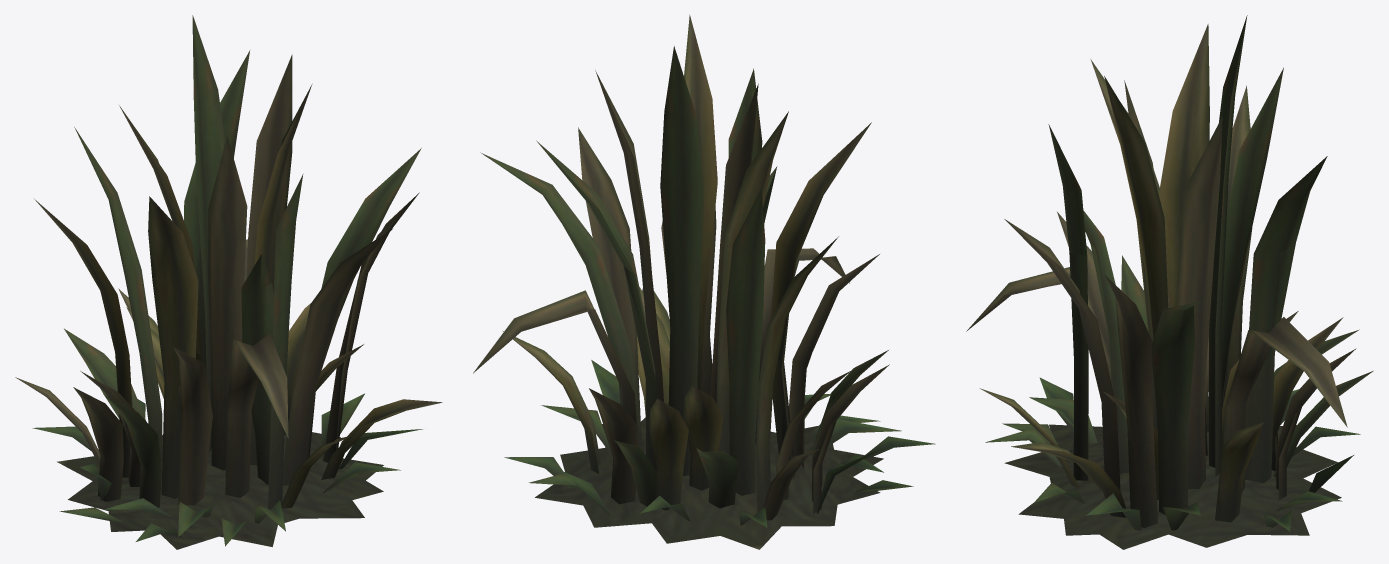
Rendered from moba_grass_02.FBX.
3 views of the same model, side by side, from view 1: azimuth 30°, elevation 25°; view 2: azimuth 150°, elevation 25°; view 3: azimuth 270°, elevation 25° (orthographic). The views are drawn at different scales.
Visible parts, largest first — view 1: Object005; view 2: Object005; view 3: Object005.
Part boxes in pixels (<box>): Object005: <box>15,15,442,549</box>; Object005: <box>473,14,935,549</box>; Object005: <box>966,15,1373,549</box>.
Bounding box in the file's own units: 17.43 × 19.36 × 14.91.
